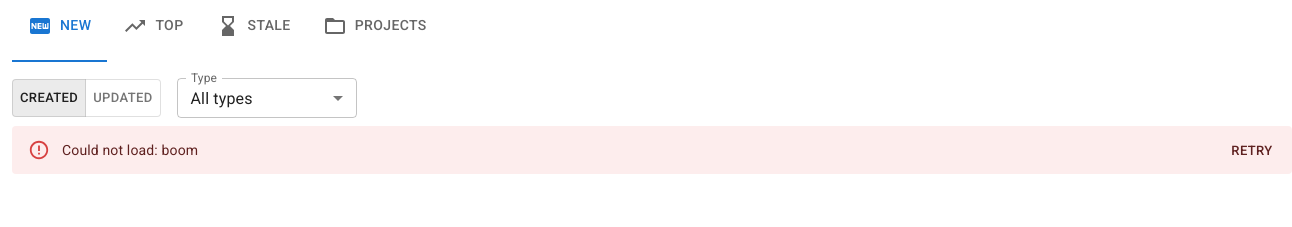
Test: BrowsePanel › (k) an error shows the message and Retry refetches
Expected: the text "Could not load: boom" is shown, [62, 142, 198, 158]
Click the button "Retry" at (1252,151), box [1220, 136, 1284, 167]
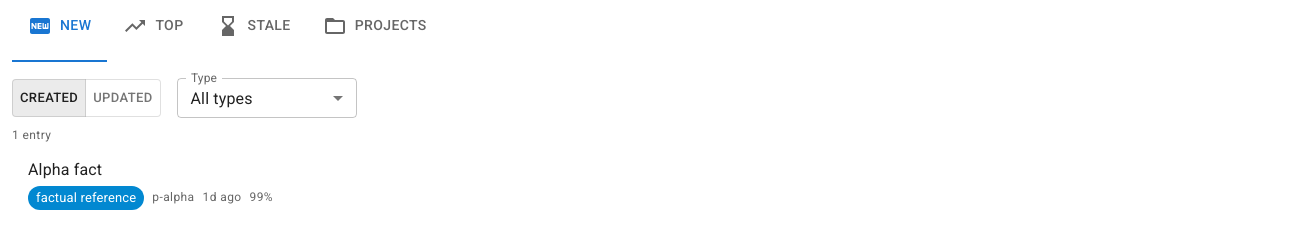
Result: the text "Alpha fact" is shown at [28, 160, 102, 179]
